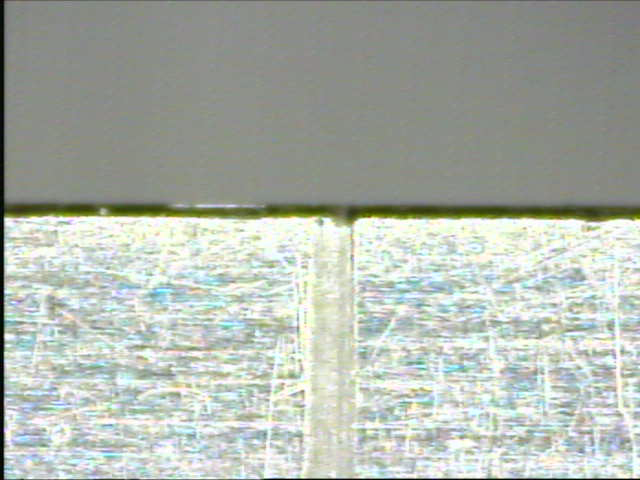line: (302, 219, 361, 478)
